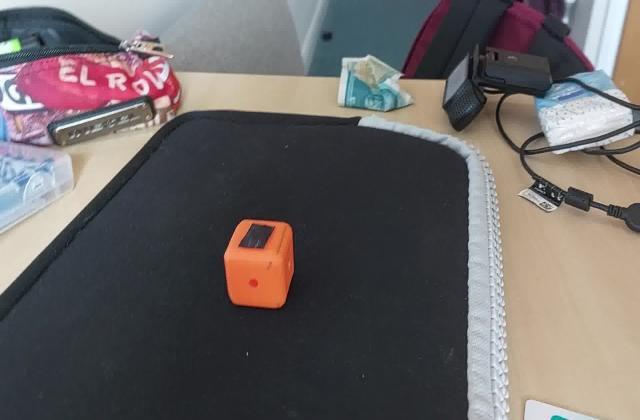black: (238, 222, 274, 254)
cube: (222, 218, 298, 312)
